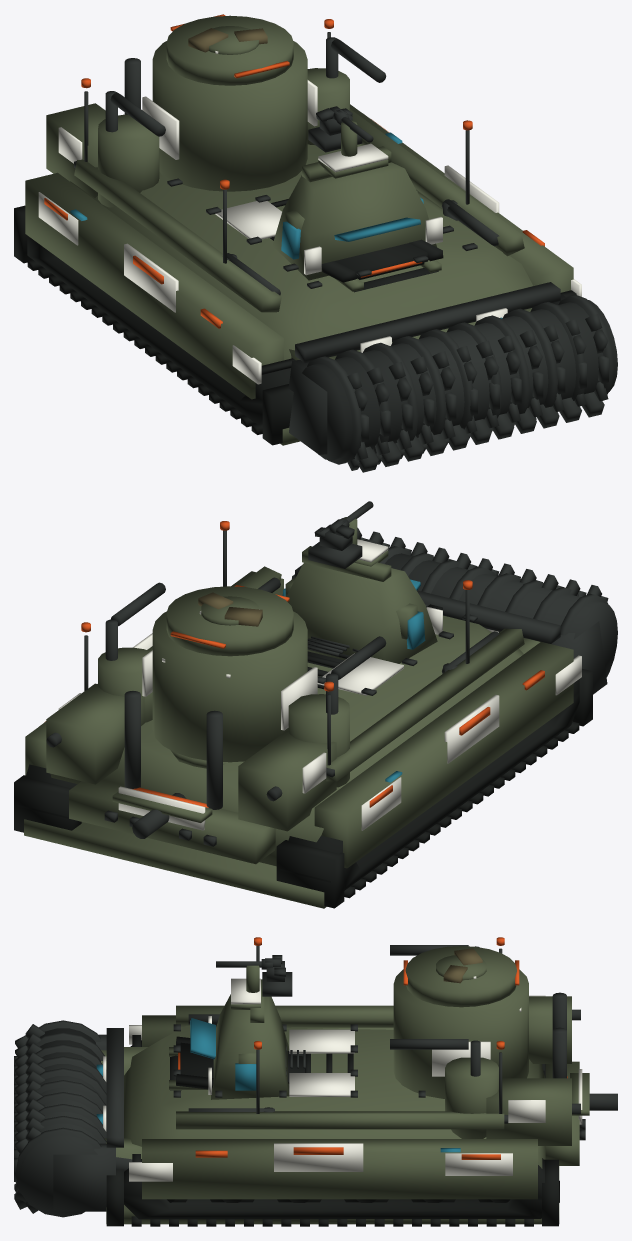
Rendered from harvester.obj.
3 renders of one model, top to bottom at view 1: azimuth 30°, elevation 25°; view 2: azimuth 150°, elevation 25°; view 3: azimuth 270°, elevation 25°, orthographic. The views are drawn at different scales.
Visible parts, largest first — view 1: harvester_hull, harvester_intake_cutter, harvester_ore_tank, harvester_cab, harvester_track_left, harvester_team_body, harvester_pipes, harvester_conveyor, harvester_team_tank, harvester_emissive, harvester_glass, harvester_machine_gun (+2 smaller); view 2: harvester_hull, harvester_ore_tank, harvester_intake_cutter, harvester_track_left, harvester_cab, harvester_pipes, harvester_team_body, harvester_track_right, harvester_team_tank, harvester_machine_gun, harvester_emissive, harvester_bolts (+3 smaller); view 3: harvester_hull, harvester_ore_tank, harvester_intake_cutter, harvester_track_right, harvester_team_body, harvester_cab, harvester_pipes, harvester_conveyor, harvester_team_tank, harvester_glass, harvester_emissive, harvester_machine_gun (+2 smaller).
Boxes of the visible parts, x1,y1,x2,y2 form: harvester_hull: [25, 104, 573, 445]; harvester_intake_cutter: [288, 282, 617, 472]; harvester_ore_tank: [46, 15, 349, 207]; harvester_cab: [272, 120, 436, 280]; harvester_track_left: [14, 205, 294, 445]; harvester_team_body: [38, 113, 581, 384]; harvester_pipes: [74, 32, 499, 295]; harvester_conveyor: [269, 199, 443, 292]; harvester_team_tank: [58, 51, 317, 163]; harvester_emissive: [44, 14, 544, 328]; harvester_glass: [70, 132, 502, 318]; harvester_machine_gun: [308, 106, 373, 152]; harvester_hull: [24, 566, 573, 908]; harvester_ore_tank: [46, 586, 349, 831]; harvester_intake_cutter: [291, 527, 617, 694]; harvester_track_left: [276, 668, 592, 908]; harvester_cab: [285, 517, 437, 663]; harvester_pipes: [46, 530, 499, 838]; harvester_team_body: [39, 539, 581, 830]; harvester_track_right: [14, 764, 81, 832]; harvester_team_tank: [58, 611, 326, 793]; harvester_machine_gun: [308, 501, 373, 568]; harvester_emissive: [44, 521, 544, 807]; harvester_bolts: [104, 603, 477, 846]; harvester_hull: [101, 1005, 579, 1224]; harvester_ore_tank: [393, 946, 589, 1145]; harvester_intake_cutter: [14, 1020, 132, 1217]; harvester_track_right: [106, 1154, 559, 1226]; harvester_team_body: [103, 978, 582, 1181]; harvester_cab: [211, 965, 289, 1099]; harvester_pipes: [188, 945, 617, 1123]; harvester_conveyor: [170, 1036, 353, 1092]; harvester_team_tank: [432, 976, 545, 1122]; harvester_glass: [96, 1018, 460, 1152]; harvester_emissive: [178, 937, 567, 1159]; harvester_machine_gun: [216, 955, 292, 996].
Bounding box in the file's own units: 4.66 × 3.13 × 8.46.
